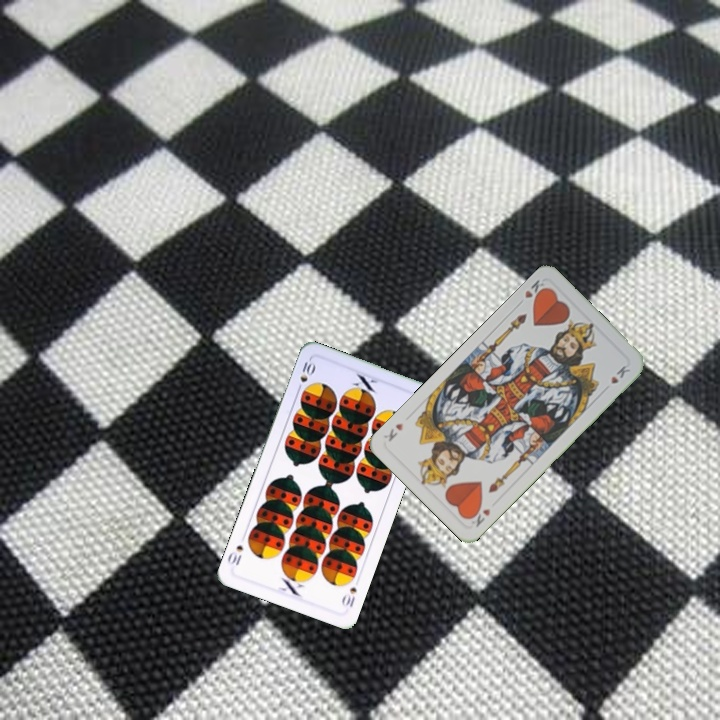HK: (513, 276, 550, 309), (467, 505, 493, 530)
S10: (293, 355, 318, 394), (338, 583, 359, 610)
